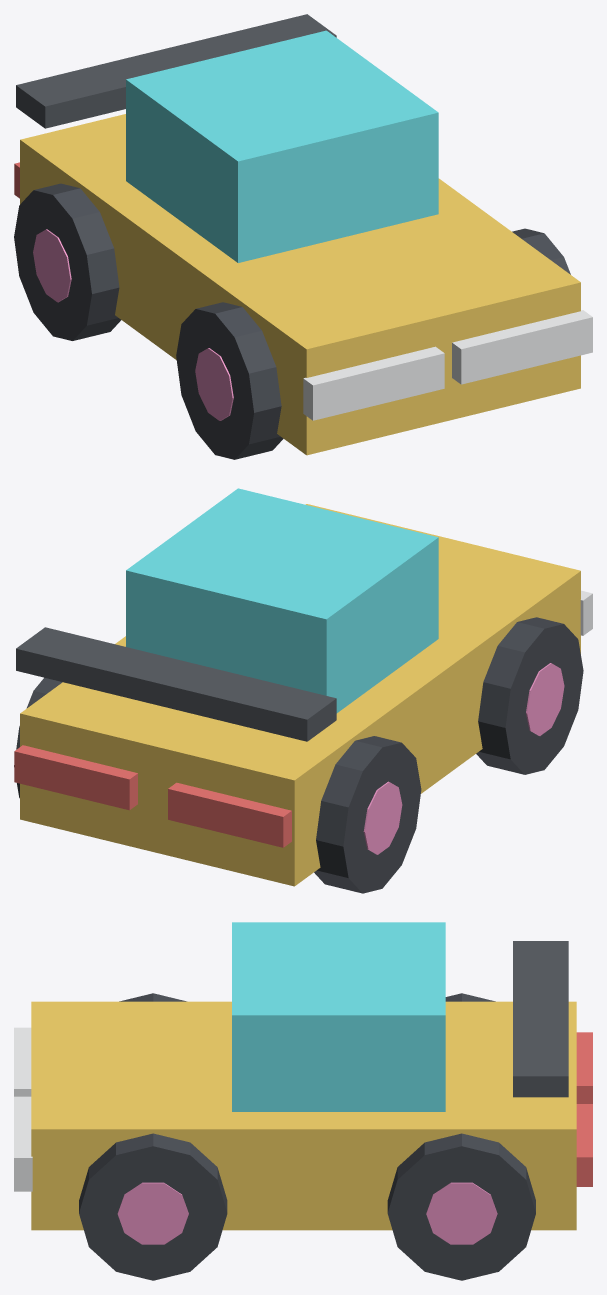
File: player_tiny_micro_racer.glb
3 views of the same model, one above another, from view 1: azimuth 30°, elevation 25°; view 2: azimuth 150°, elevation 25°; view 3: azimuth 270°, elevation 25° (orthographic). The views are drawn at different scales.
Parts seen in each view (by area): view 1: tiny_body_0, tiny_cabin_1, wheel_RL_7, wheel_FL_3, tiny_spoiler_2, headlight_L_11, headlight_R_12, rim_RL_8, rim_FL_4, wheel_FR_5; view 2: tiny_body_0, tiny_cabin_1, tiny_spoiler_2, wheel_FL_3, wheel_RL_7, taillight_R_14, taillight_L_13, rim_RL_8, rim_FL_4, headlight_L_11; view 3: tiny_body_0, tiny_cabin_1, wheel_FR_5, wheel_RR_9, tiny_spoiler_2, rim_RR_10, rim_FR_6, headlight_R_12, taillight_R_14, headlight_L_11, taillight_L_13.
Part boxes in pixels (x1=…): tiny_body_0: x1=20, y1=114, x2=580, y2=455; tiny_cabin_1: x1=126, y1=30, x2=438, y2=262; wheel_RL_7: x1=14, y1=183, x2=120, y2=340; wheel_FL_3: x1=176, y1=302, x2=283, y2=459; tiny_spoiler_2: x1=16, y1=14, x2=336, y2=128; headlight_L_11: x1=303, y1=346, x2=444, y2=420; headlight_R_12: x1=452, y1=310, x2=592, y2=384; rim_RL_8: x1=33, y1=229, x2=71, y2=302; rim_FL_4: x1=195, y1=348, x2=233, y2=420; wheel_FR_5: x1=512, y1=228, x2=570, y2=274; tiny_body_0: x1=20, y1=504, x2=580, y2=886; tiny_cabin_1: x1=126, y1=488, x2=438, y2=713; tiny_spoiler_2: x1=16, y1=627, x2=336, y2=741; wheel_FL_3: x1=476, y1=617, x2=583, y2=774; wheel_RL_7: x1=314, y1=736, x2=421, y2=893; taillight_R_14: x1=14, y1=745, x2=137, y2=810; taillight_L_13: x1=168, y1=782, x2=291, y2=847; rim_RL_8: x1=363, y1=781, x2=402, y2=854; rim_FL_4: x1=526, y1=663, x2=564, y2=735; headlight_L_11: x1=580, y1=590, x2=592, y2=635; tiny_body_0: x1=31, y1=1001, x2=576, y2=1230; tiny_cabin_1: x1=232, y1=922, x2=445, y2=1111; wheel_FR_5: x1=79, y1=1133, x2=227, y2=1280; wheel_RR_9: x1=387, y1=1133, x2=535, y2=1280; tiny_spoiler_2: x1=513, y1=941, x2=568, y2=1097; rim_RR_10: x1=426, y1=1182, x2=497, y2=1244; rim_FR_6: x1=117, y1=1182, x2=188, y2=1244; headlight_R_12: x1=14, y1=1096, x2=32, y2=1191; taillight_R_14: x1=576, y1=1104, x2=592, y2=1186; headlight_L_11: x1=14, y1=1027, x2=31, y2=1096; taillight_L_13: x1=576, y1=1032, x2=592, y2=1103.
Bounding box in the file's own units: 1.57 × 1.12 × 2.5.
